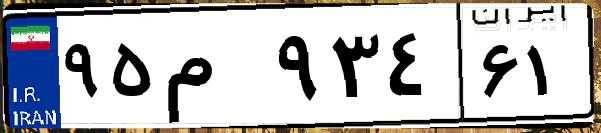1: (525, 38, 570, 115)
3: (330, 28, 385, 110)
4: (385, 28, 445, 110)
5: (110, 28, 158, 98)
6: (475, 38, 525, 113)
9: (270, 28, 330, 110), (57, 26, 110, 100)
م: (158, 20, 270, 120)
